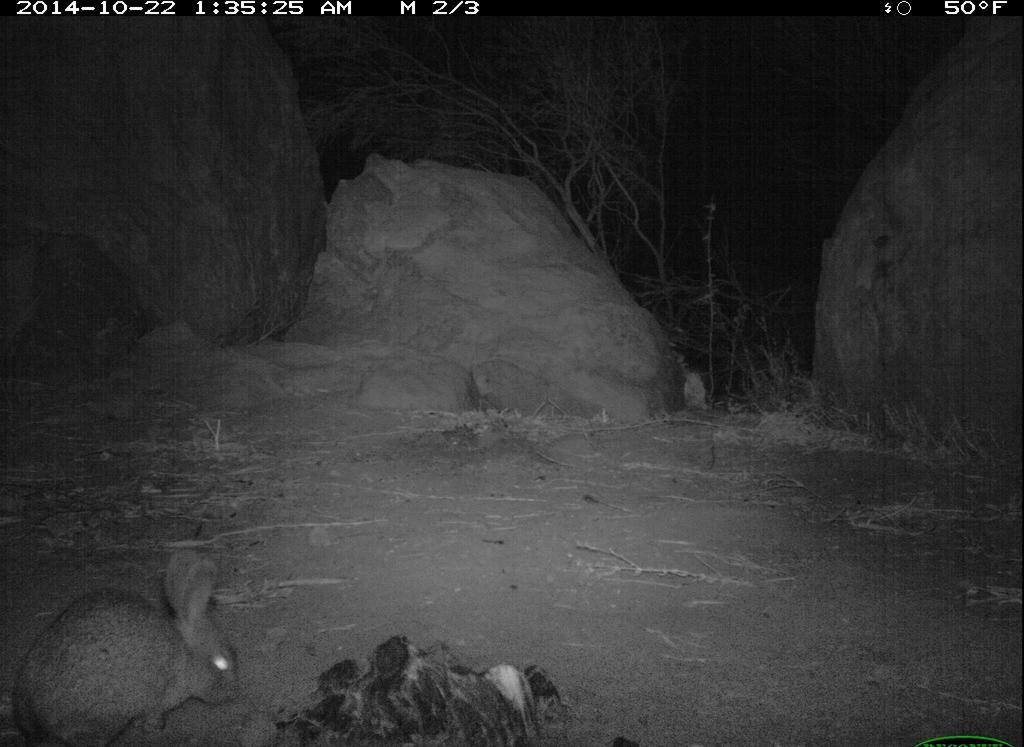rabbit: (11, 539, 246, 747)
